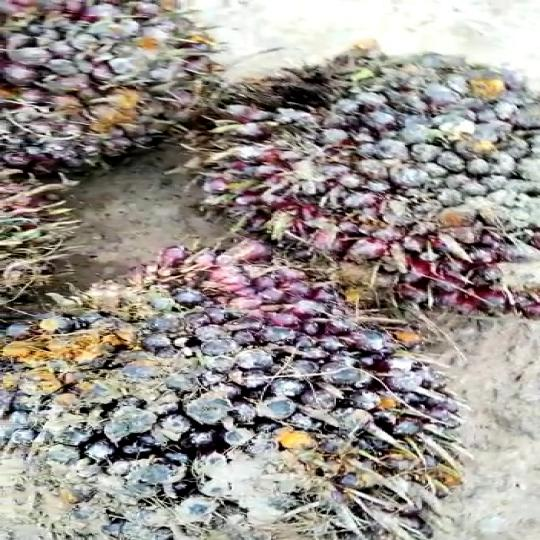kurang masak: (0, 250, 463, 540), (180, 46, 540, 326), (0, 0, 205, 172)
